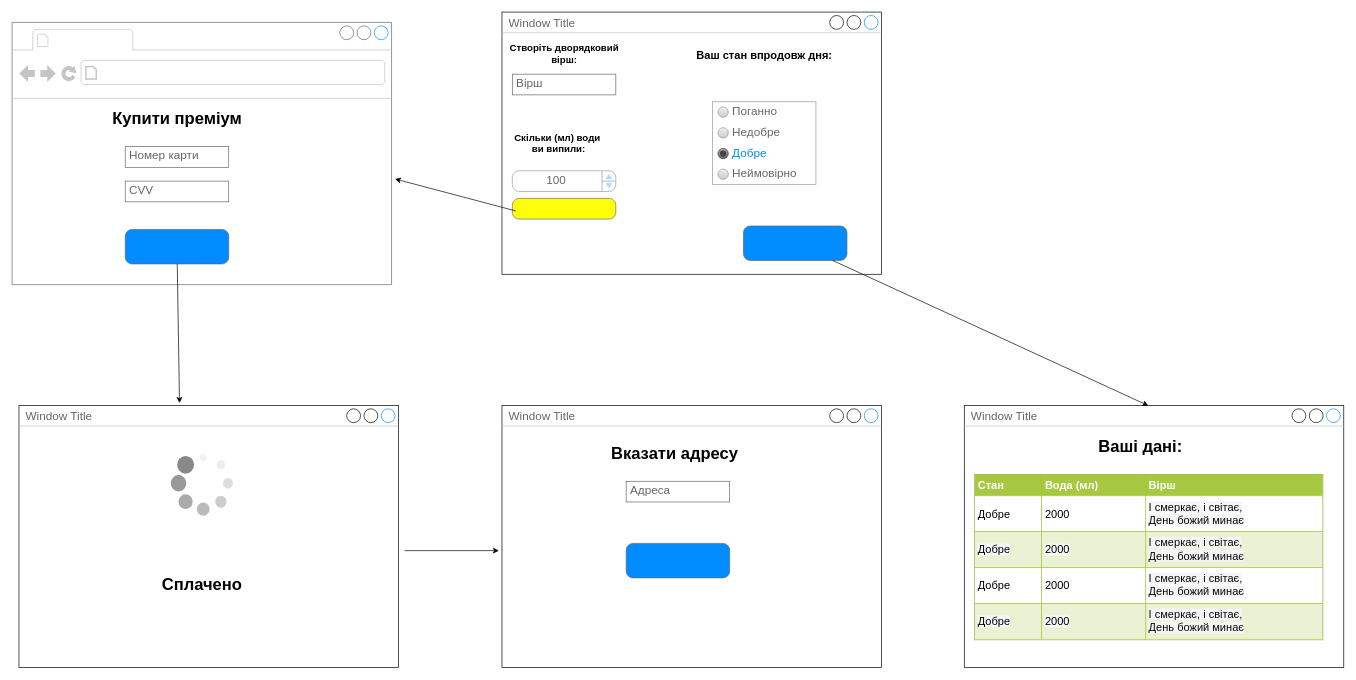
The diagram is 1356 pixels wide and 680 high, and some of its shapes have lost their labels. The centre of each missing label's shape, as x and y in pixels:
https://www.draw.io: point 187,72
Page 1: point 91,39
Далі: point 795,242
Замовити: point 677,560
Придбати воду: point 564,208
РОЗРАХУНОК: point 177,246
